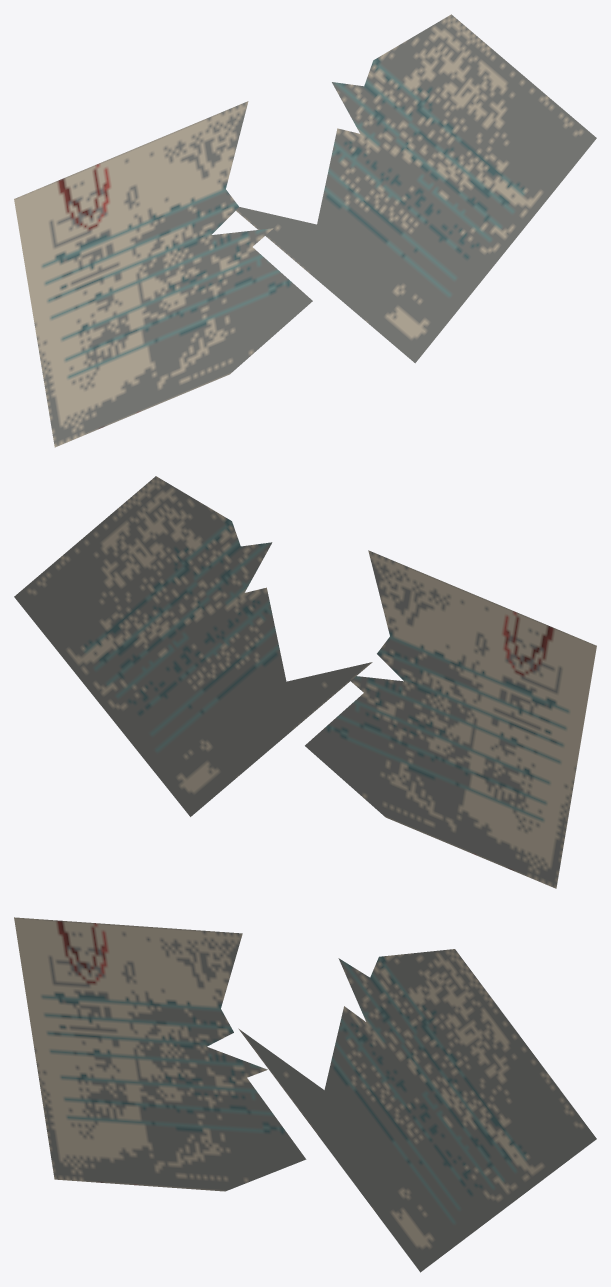
Rendered from BrokenNote.fbx.
3 renders of one model, top to bottom at view 1: azimuth 30°, elevation 25°; view 2: azimuth 150°, elevation 25°; view 3: azimuth 330°, elevation 25°, orthographic. The views are drawn at different scales.
Visible parts, largest first — view 1: BrokenNote; view 2: BrokenNote; view 3: BrokenNote.
Boxes of the visible parts, x1,y1,x2,y2 form: BrokenNote: (14,14,596,447); BrokenNote: (14,476,596,888); BrokenNote: (14,917,596,1272).
Size of the model in its own units: 0.6608 by 0.3645 by 0.0149.
